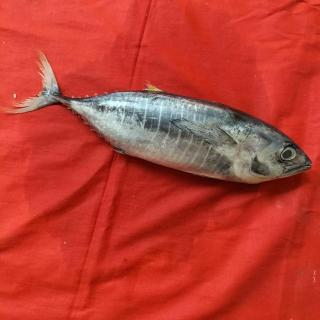Ikan: (4, 45, 320, 203)
